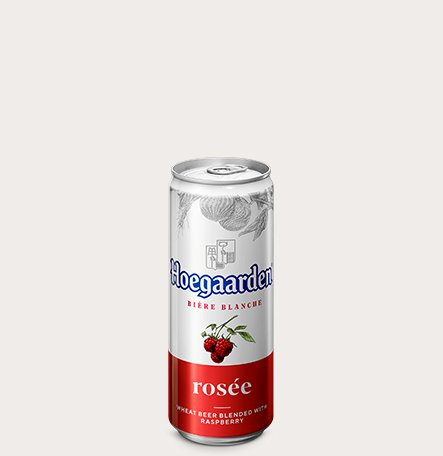can: (160, 152, 285, 448)
